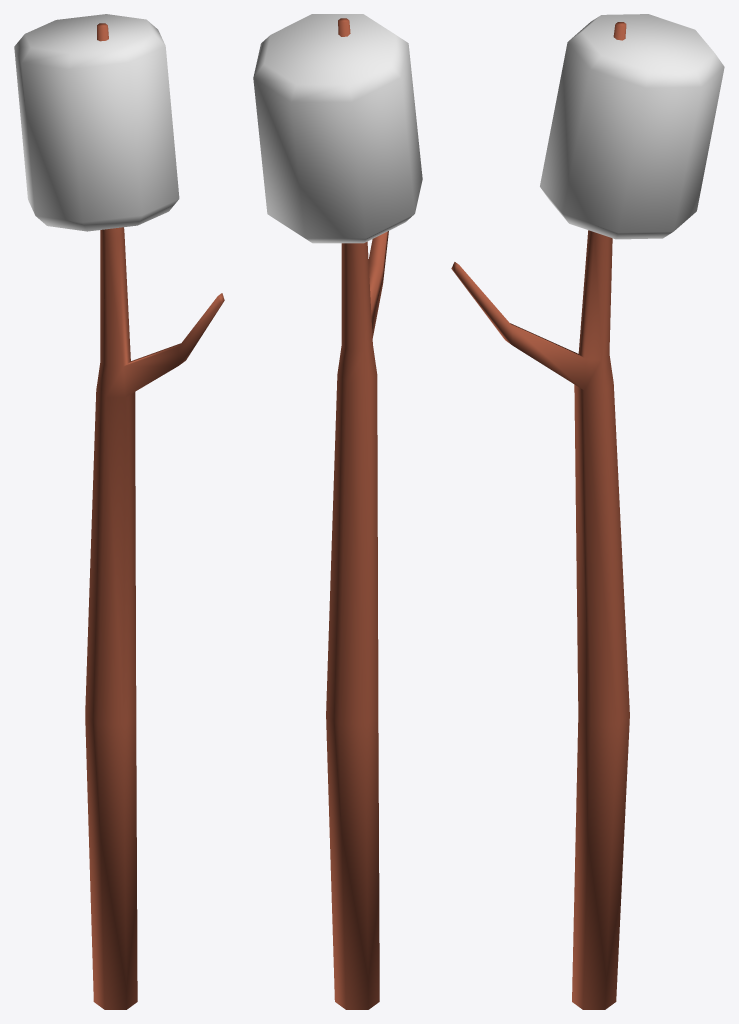
Rendered from MarshmelloStick.gltf.
3 renders of one model, left to right at view 1: azimuth 30°, elevation 25°; view 2: azimuth 150°, elevation 25°; view 3: azimuth 270°, elevation 25°, orthographic. The views are drawn at different scales.
Parts seen in each view (by area): view 1: Stick, Marshmallow; view 2: Stick, Marshmallow; view 3: Stick, Marshmallow.
Boxes of the visible parts, x1=… form: Stick: x1=85, y1=23, x2=224, y2=1009; Marshmallow: x1=14, y1=14, x2=179, y2=231; Stick: x1=326, y1=18, x2=388, y2=1009; Marshmallow: x1=253, y1=14, x2=422, y2=243; Stick: x1=451, y1=22, x2=629, y2=1009; Marshmallow: x1=540, y1=14, x2=724, y2=239.
Bounding box in the file's own units: 0.1108 × 0.7495 × 0.1899.
